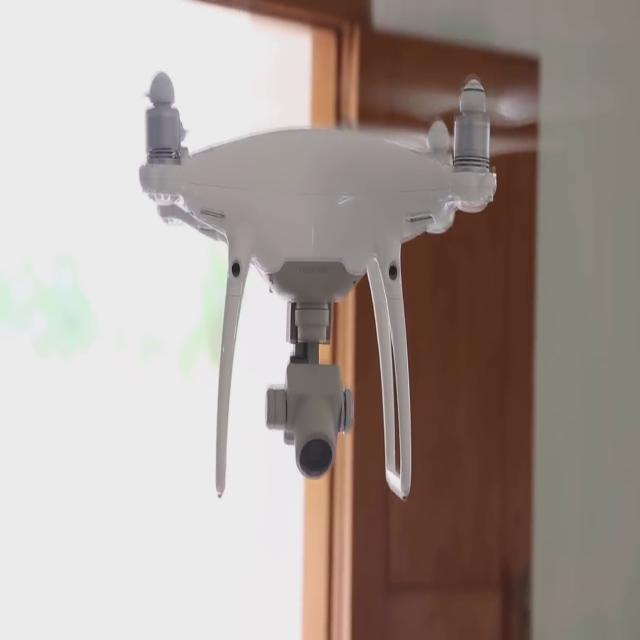drone: (110, 46, 514, 364)
